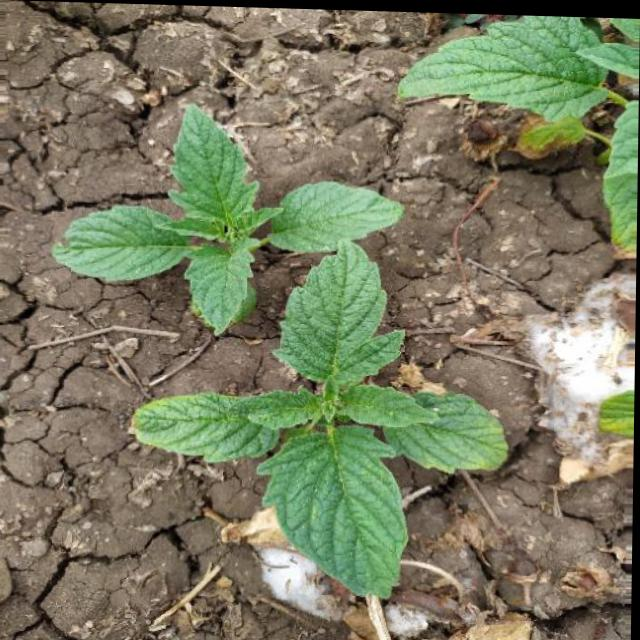crop: (130, 234, 519, 593), (54, 77, 408, 332)
